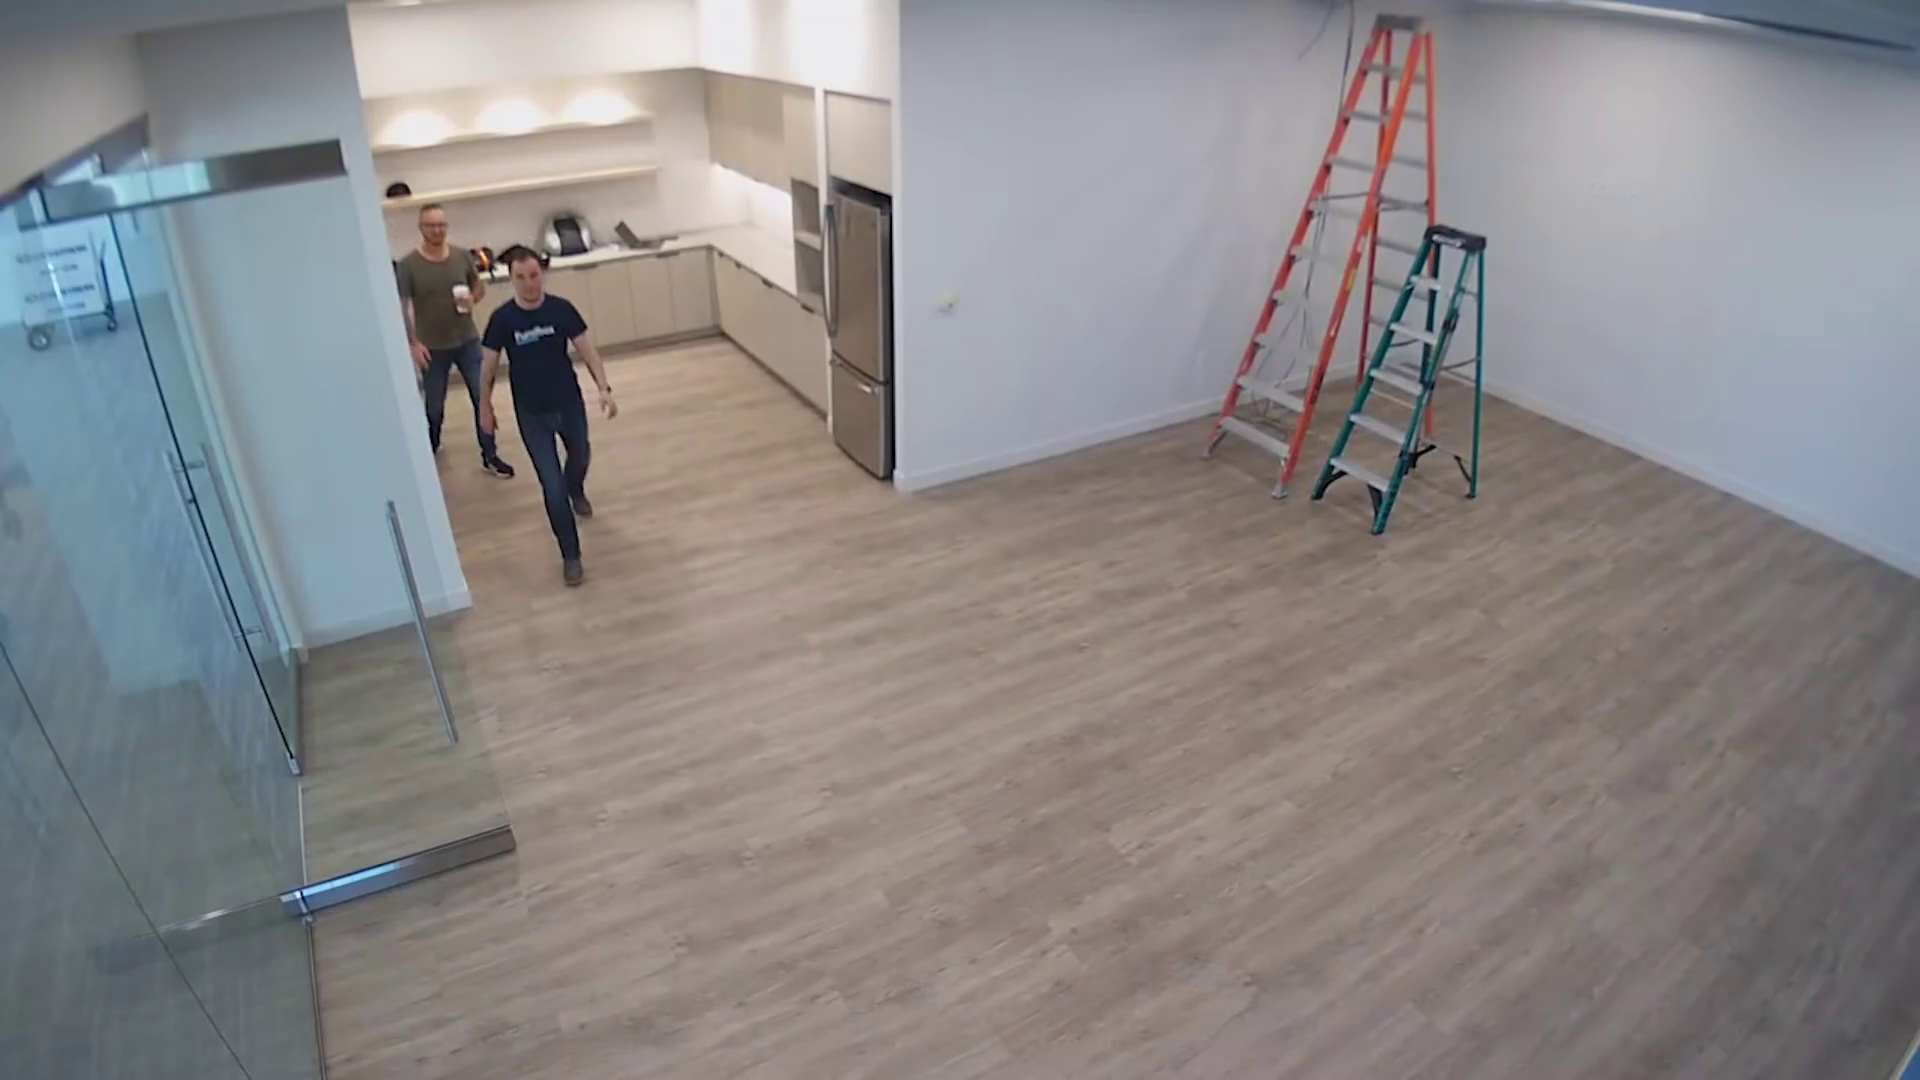face: (510, 265, 545, 300), (418, 214, 449, 248)
